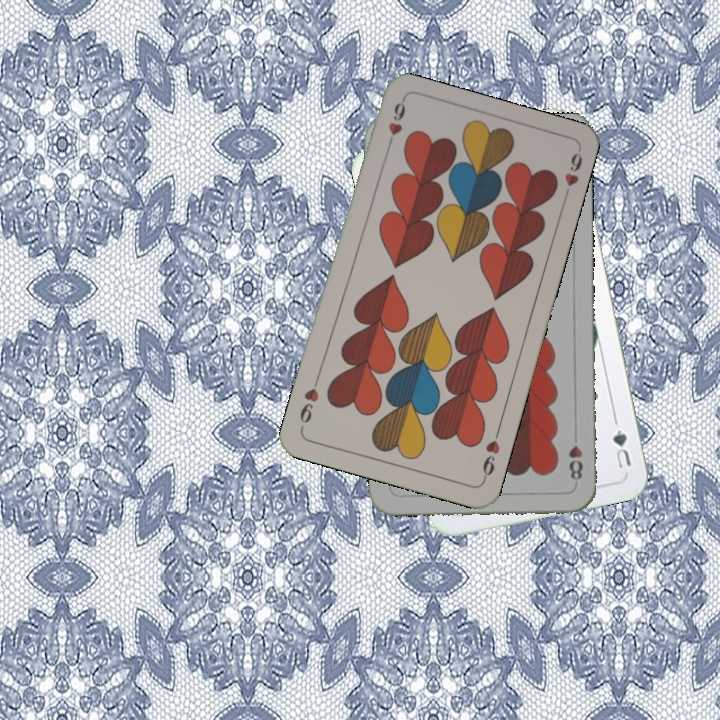GU: (608, 425, 634, 471)
H8: (565, 441, 585, 483)
H9: (382, 97, 408, 155), (478, 426, 503, 484)
